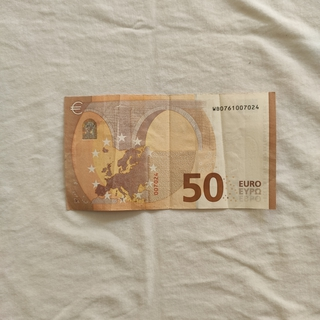50EUROBack: (61, 90, 277, 212)
